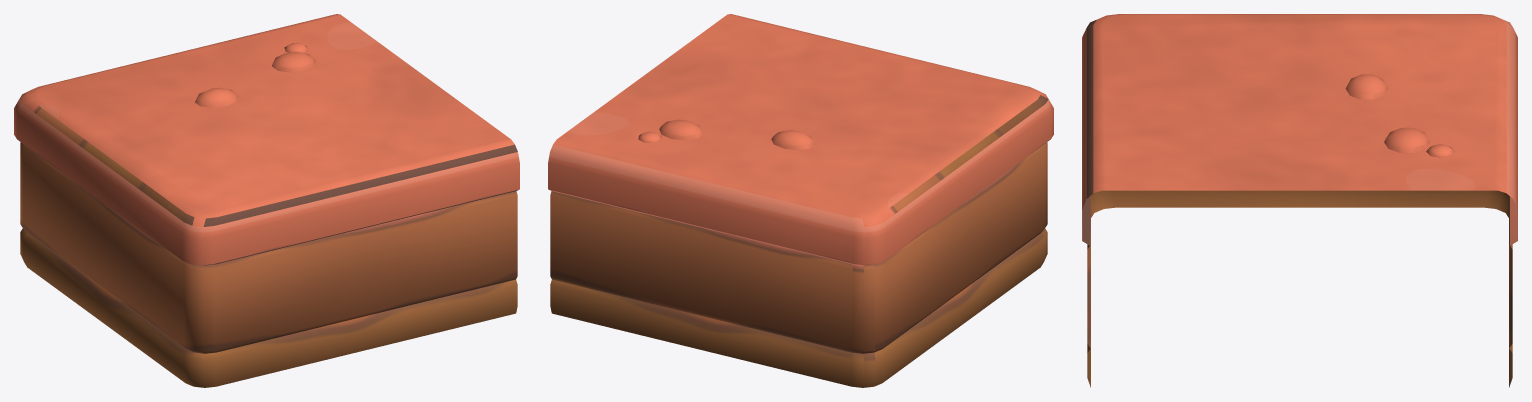
File: wall_end_low.glb
3 renders of one model, left to right at view 1: azimuth 30°, elevation 25°; view 2: azimuth 150°, elevation 25°; view 3: azimuth 270°, elevation 25°, orthographic. The views are drawn at different scales.
Parts seen in each view (by area): view 1: wall_end_low; view 2: wall_end_low; view 3: wall_end_low.
Boxes of the visible parts, box(x1,y1,x2,y2) form: wall_end_low: box(14, 14, 519, 387); wall_end_low: box(548, 14, 1053, 387); wall_end_low: box(1082, 14, 1517, 387).
Bounding box in the file's own units: 1 × 0.5267 × 1.
2 materials, 2 textured.
